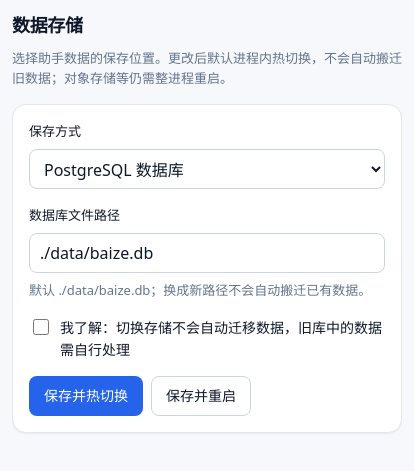
Scenario: StorageSettings › switches fields by driver
Select "PostgreSQL 数据库" in the dropdown labelled "保存方式". click: (207, 169)
box: x1=29 y1=149 x2=385 y2=189
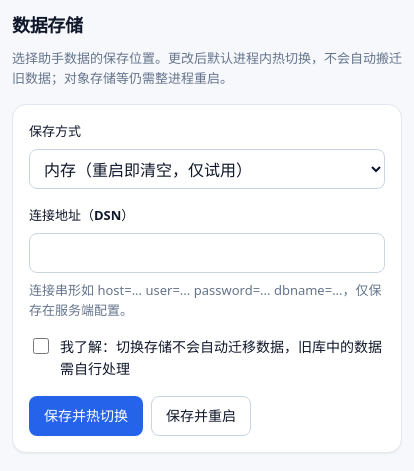
Now the text "连接地址（DSN）" is shown, box x1=29 y1=206 x2=134 y2=224
Now the text "数据库文件路径" is gone
Select "内存（重启即清空，仅试用）" in the dropdown labelled "保存方式". click: (207, 169)
box: x1=29 y1=149 x2=385 y2=189
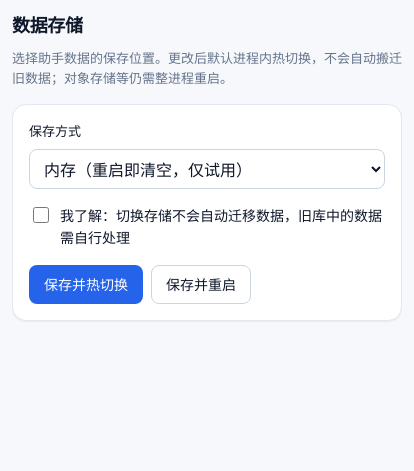
Now the text "连接地址（DSN）" is gone
